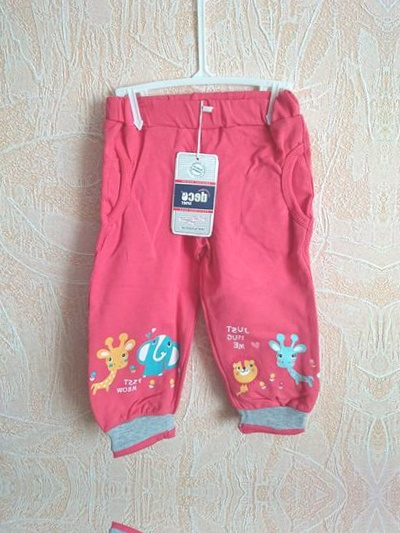Pants: (49, 66, 339, 468), (39, 516, 329, 533)
